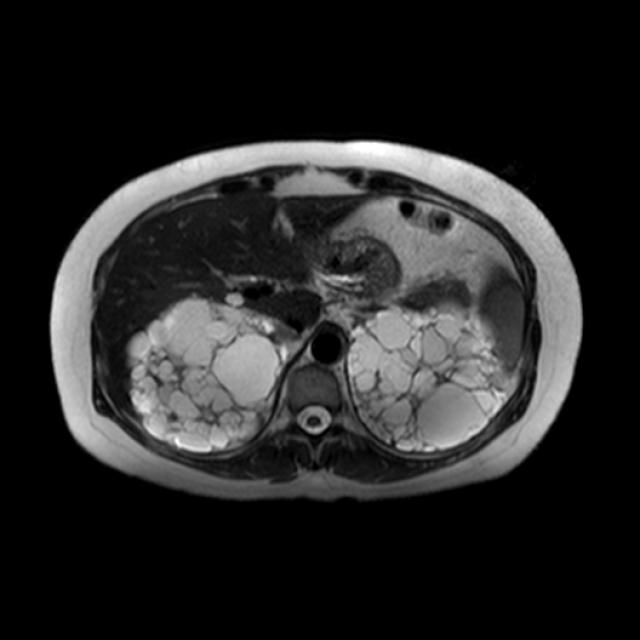sag: (126, 293, 295, 453)
sol: (348, 304, 518, 454)
